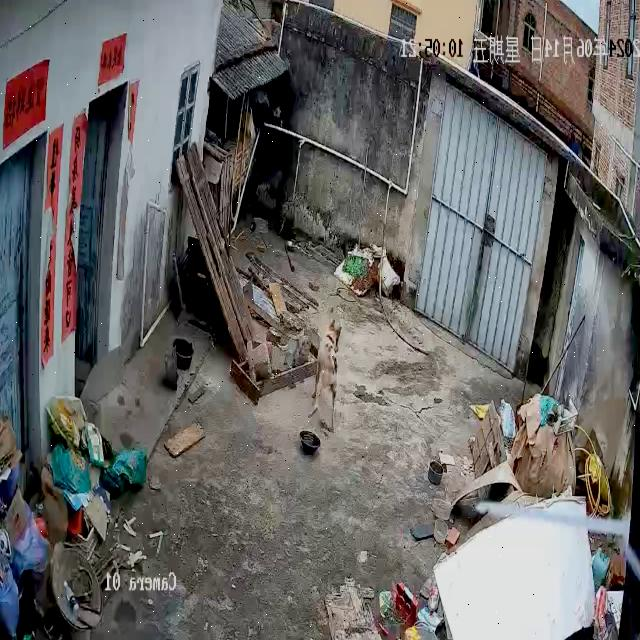dog: (310, 319, 344, 435)
